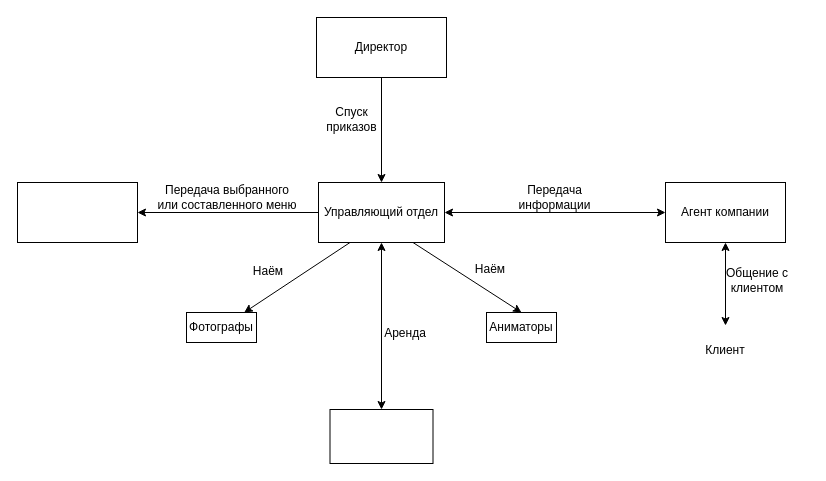
Image size: 826x481. Some labels were removed from this diagram. Each missing label, with the centre of its shape:
"Аренда места проведения" belongs at point 381,436.
"Кухня" belongs at point 77,212.
